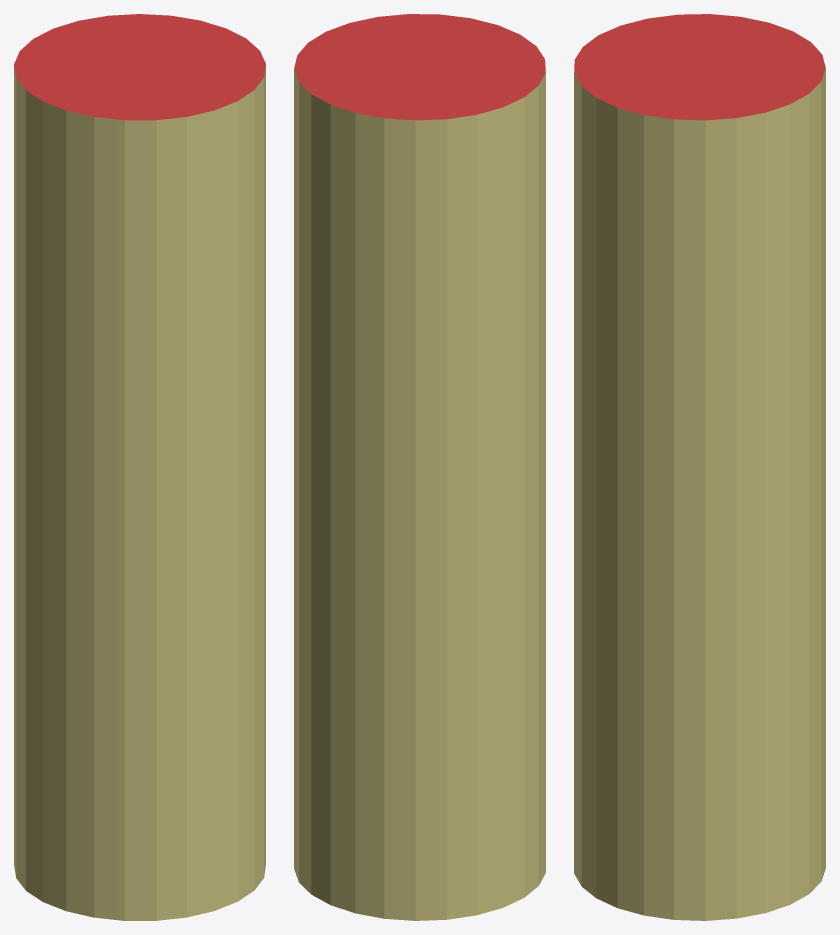
The picture shows the model from 3 angles, left to right: view 1: azimuth 30°, elevation 25°; view 2: azimuth 150°, elevation 25°; view 3: azimuth 270°, elevation 25°; orthographic projection.
Size of the model in its own units: 3.03 by 3.02 by 10.61.
